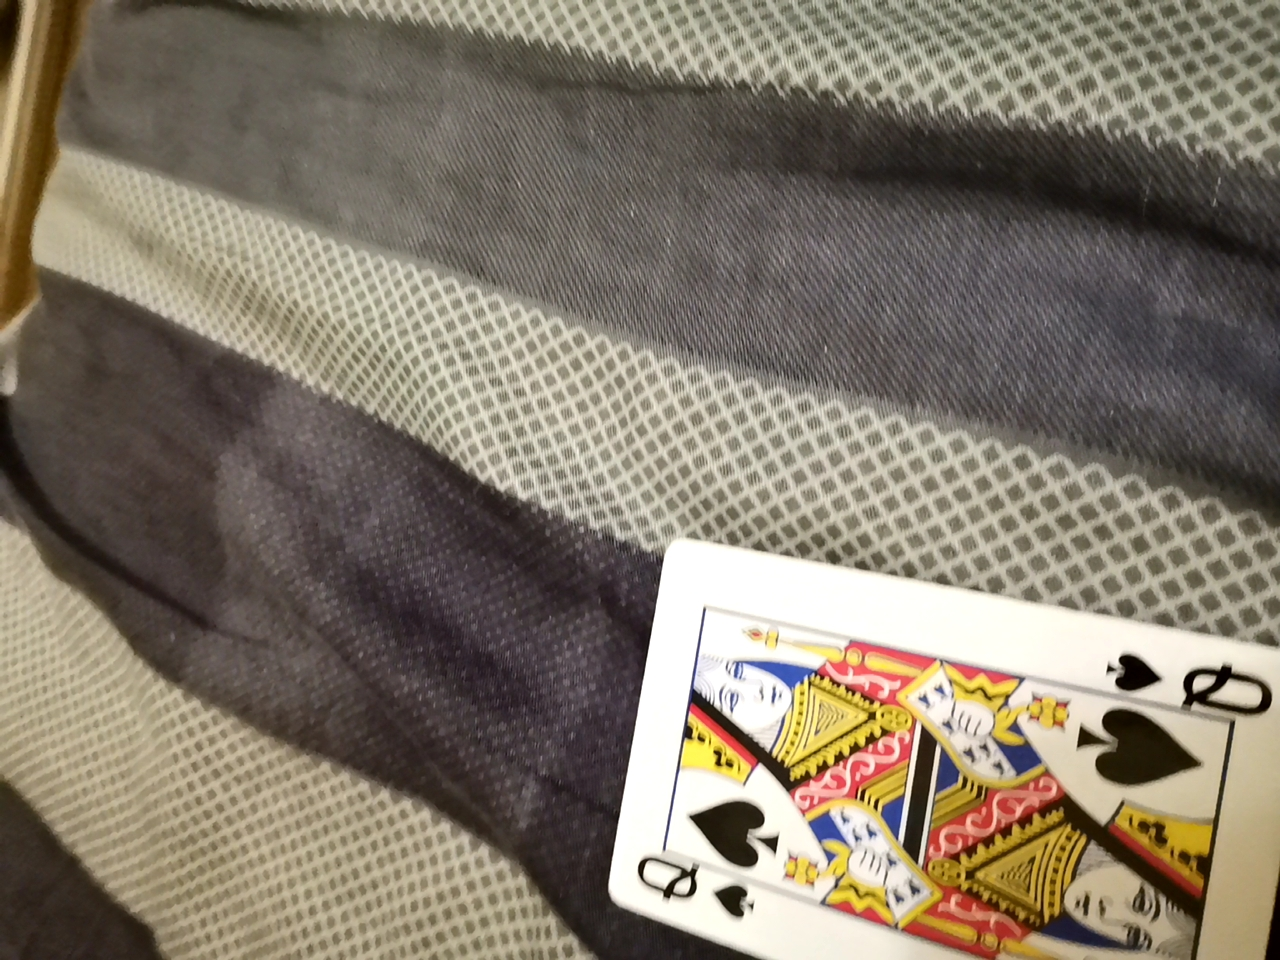ht q: (598, 535, 1269, 953)
